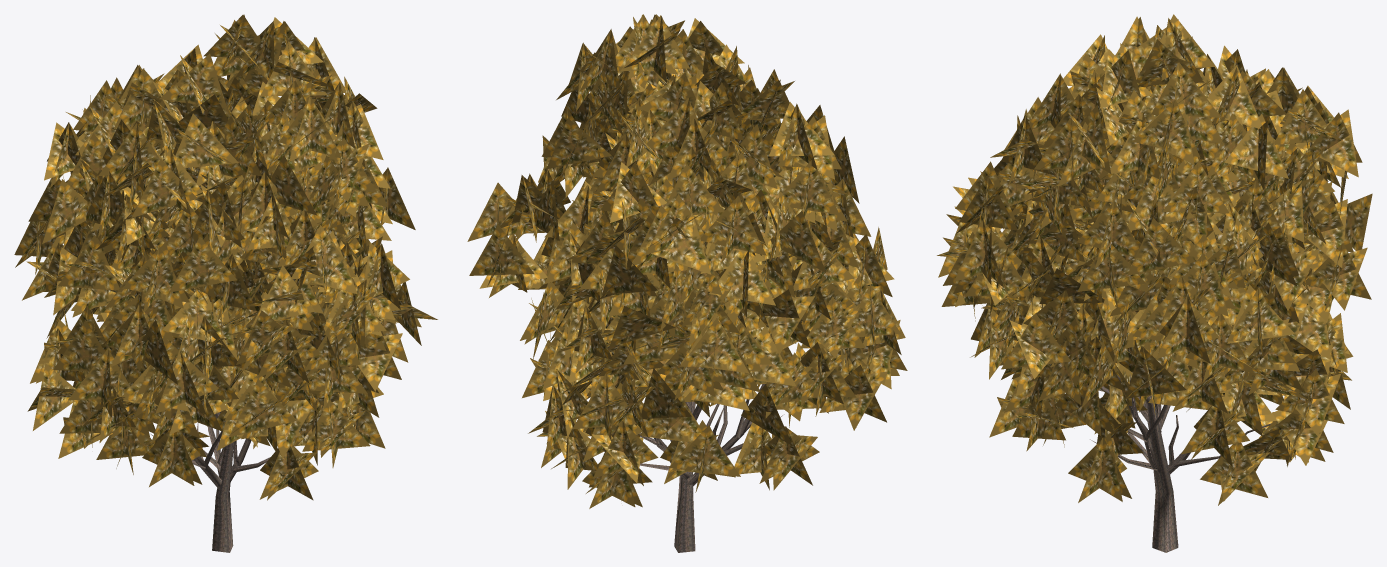
The model's file is Carya_Ovalis_Autumn_Young.glb.
3 renders of one model, left to right at view 1: azimuth 30°, elevation 25°; view 2: azimuth 150°, elevation 25°; view 3: azimuth 270°, elevation 25°, orthographic. The views are drawn at different scales.
Parts seen in each view (by area): view 1: Carya_Ovalis_Autumn_Young__LOD3; view 2: Carya_Ovalis_Autumn_Young__LOD3; view 3: Carya_Ovalis_Autumn_Young__LOD3.
Boxes of the visible parts, x1=… form: Carya_Ovalis_Autumn_Young__LOD3: x1=14, y1=14, x2=437, y2=552; Carya_Ovalis_Autumn_Young__LOD3: x1=467, y1=14, x2=907, y2=552; Carya_Ovalis_Autumn_Young__LOD3: x1=937, y1=14, x2=1372, y2=552.
Bounding box in the file's own units: 7.55 × 9.74 × 7.12.
Materials: 2 (2 with a texture image).
